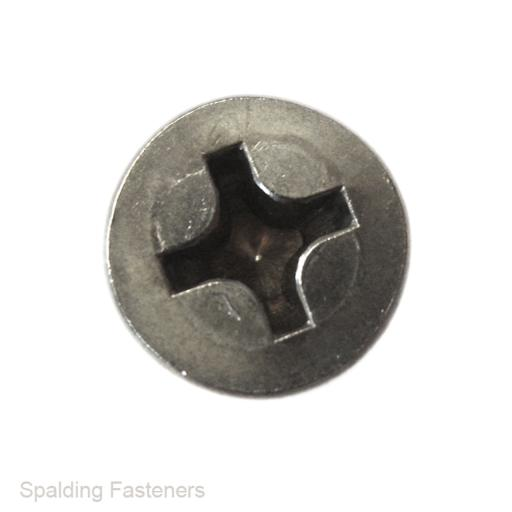Phillips: (101, 95, 410, 398)
